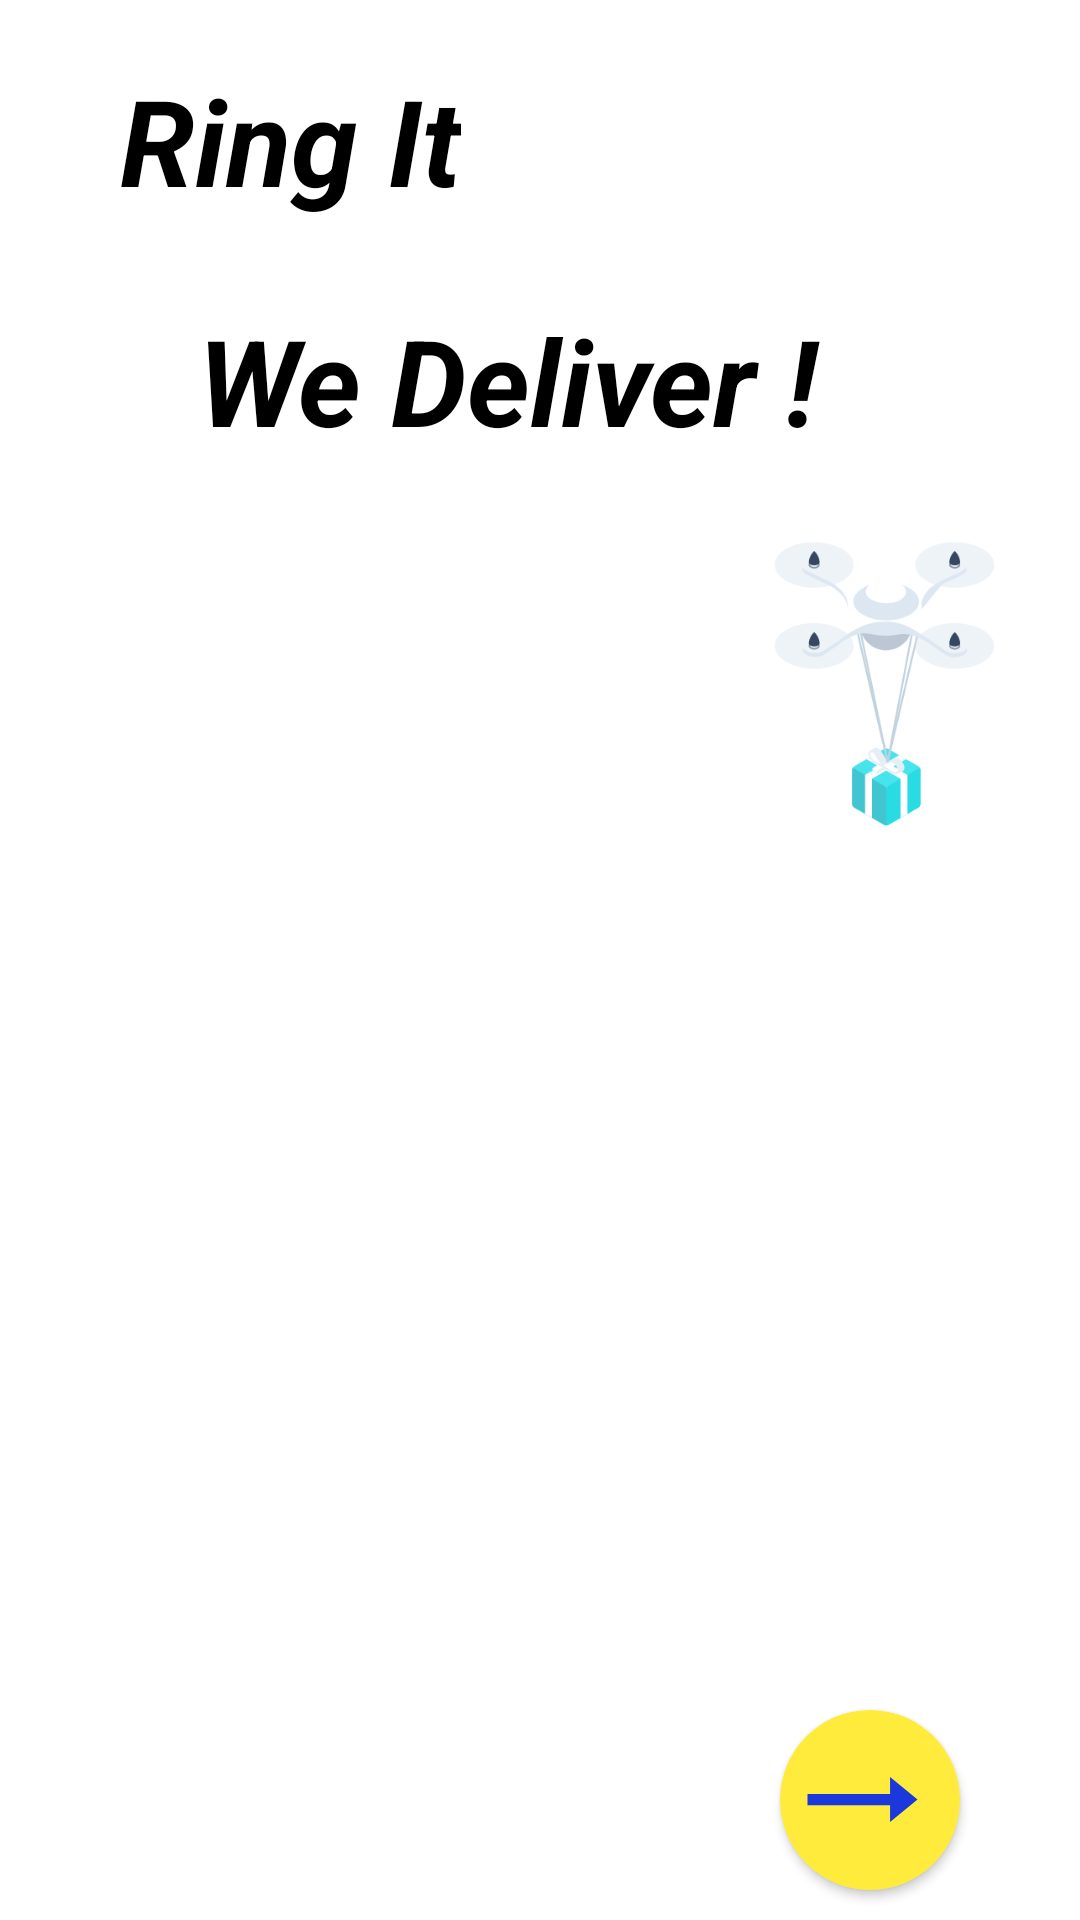

Named icons in this screenshot (1080*1920) and their bounding boxes, (x1, y1, x2, y2):
drone: (802, 551, 967, 826)
